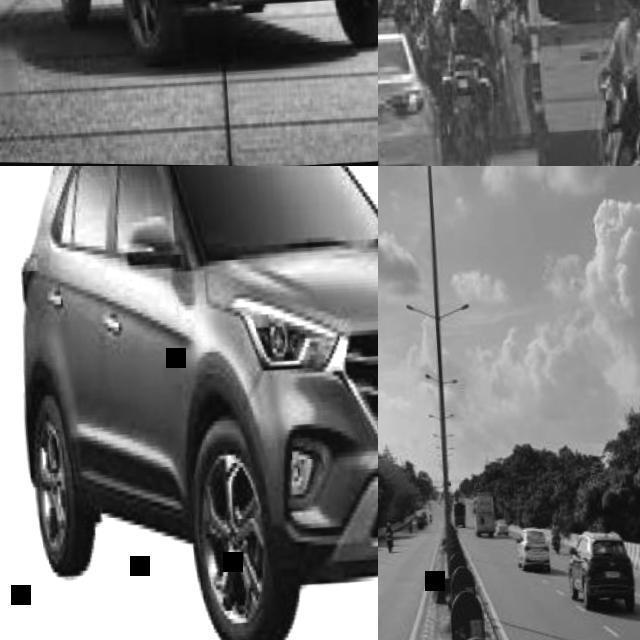car: (580, 538, 638, 611)
